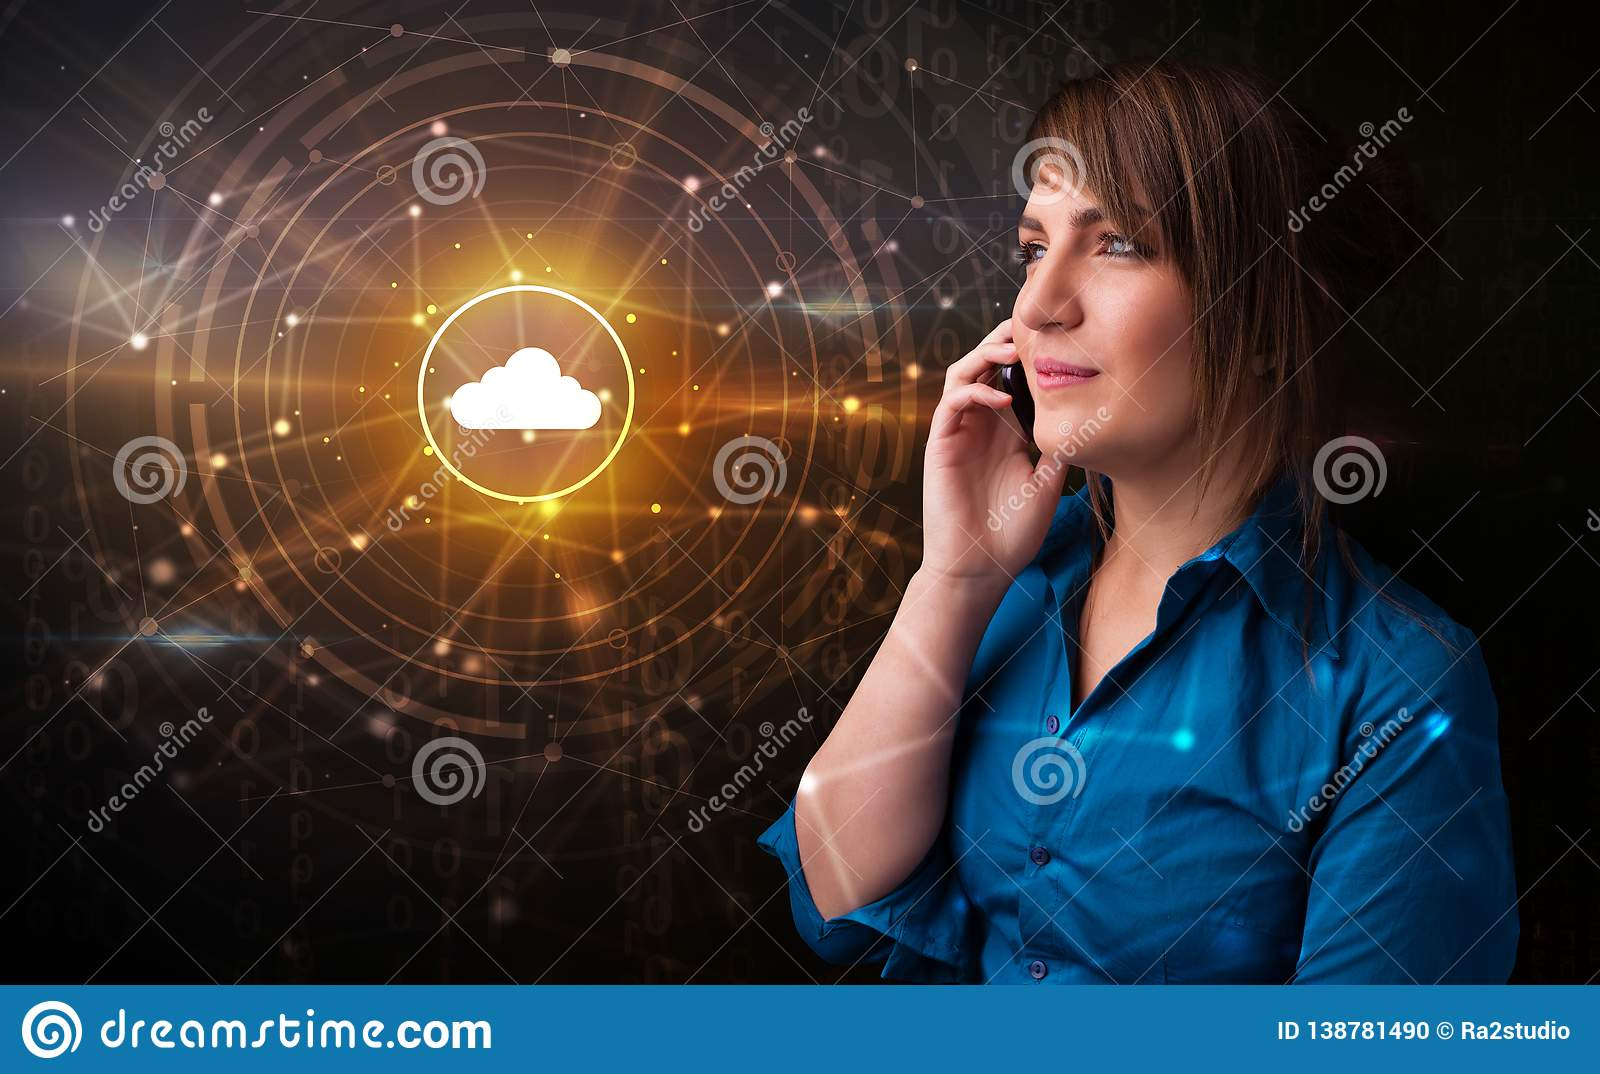talk: (912, 183, 1169, 595)
